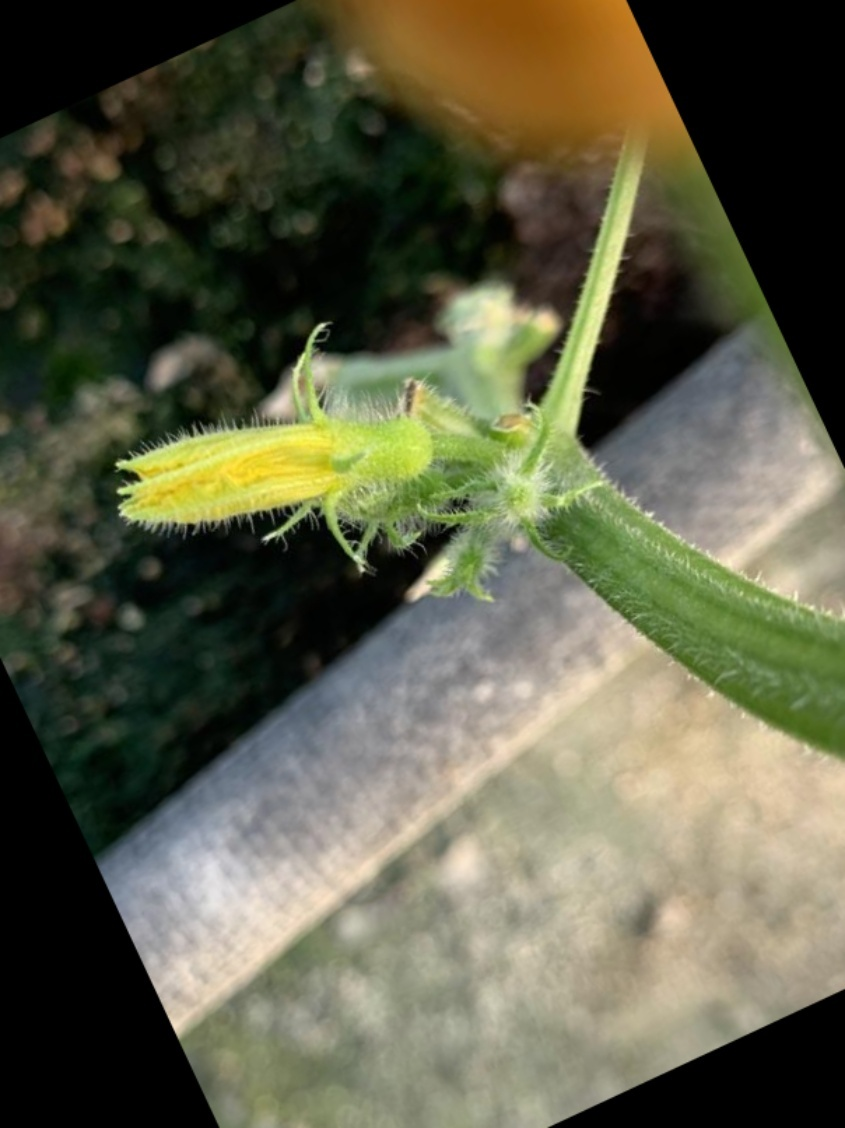growth: (107, 378, 442, 561)
